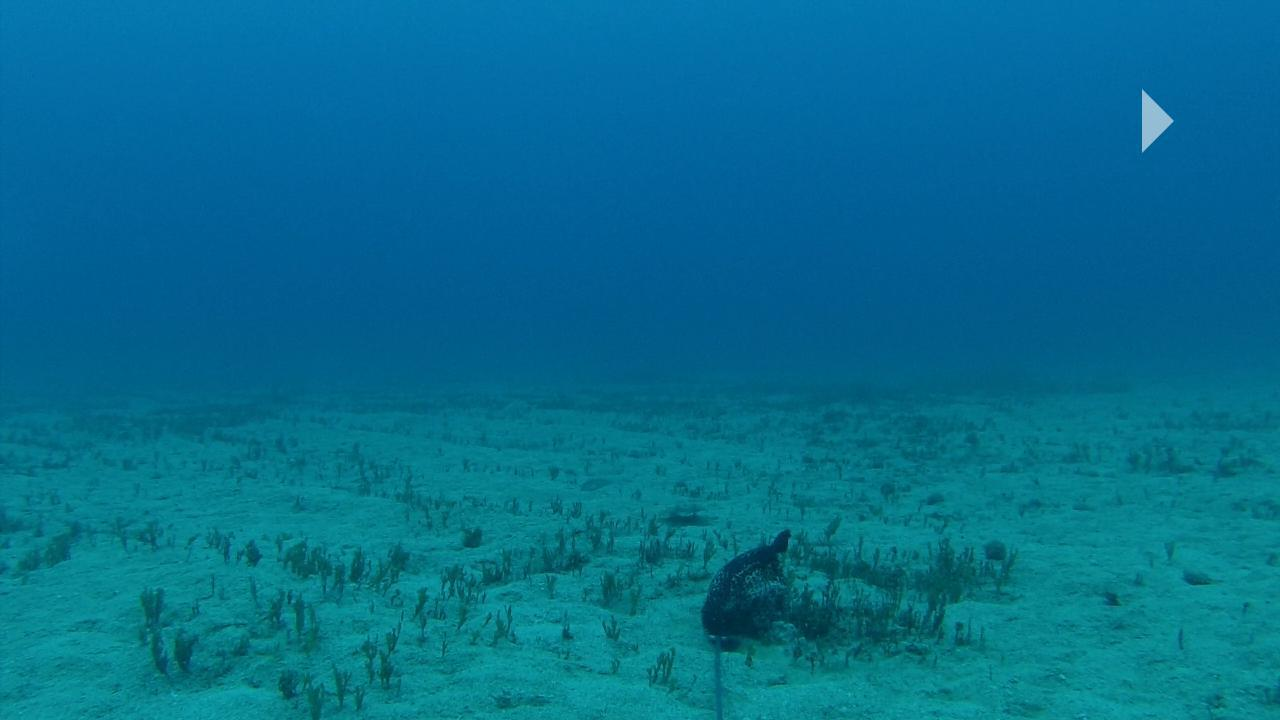bothus: (650, 496, 714, 521)
